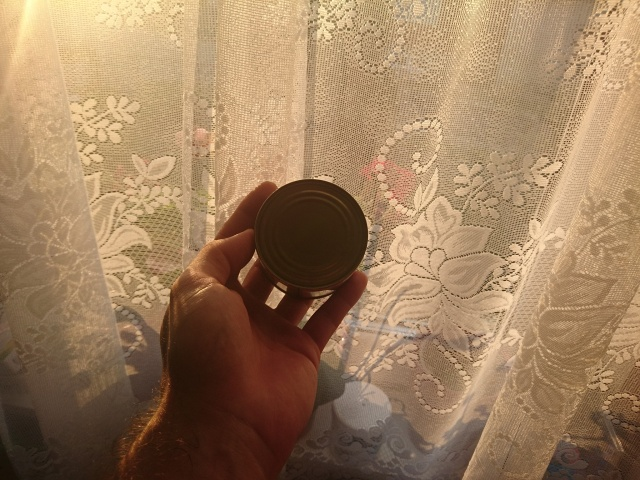Podravka Luncheon Meat 150g: (251, 176, 372, 303)
